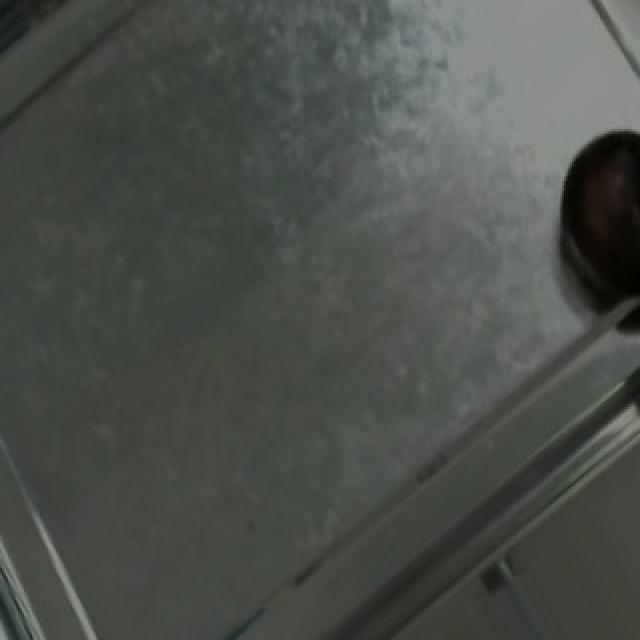Fruit: (542, 114, 640, 318)
